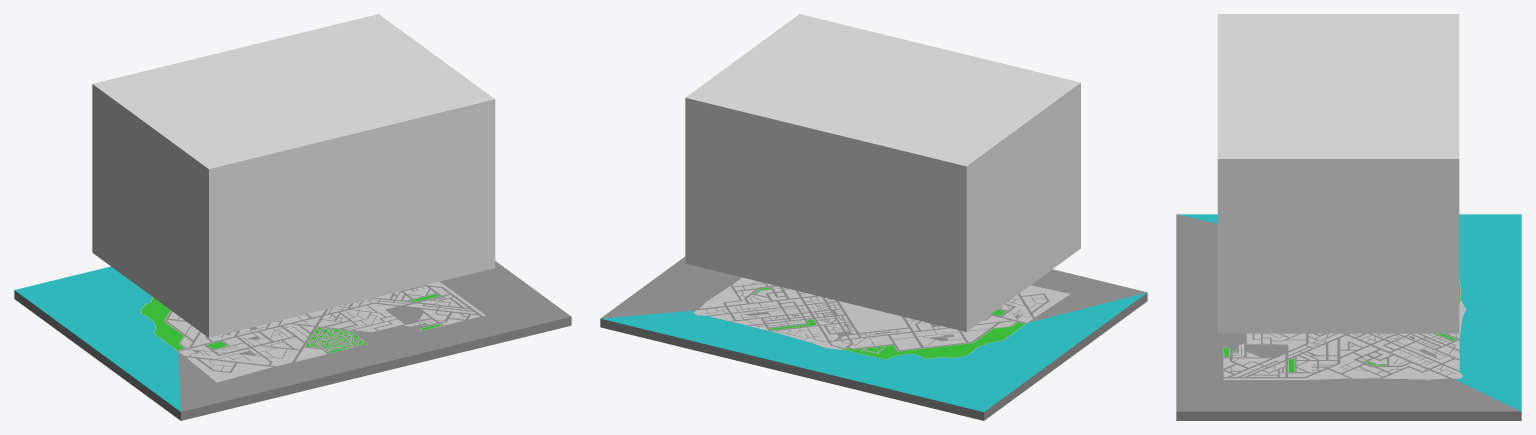
Rendered from map.fbx.
The picture shows the model from 3 angles, left to right: view 1: azimuth 30°, elevation 25°; view 2: azimuth 150°, elevation 25°; view 3: azimuth 270°, elevation 25°; orthographic projection. The views are drawn at different scales.
Visible parts, largest first — view 1: pointer, map; view 2: pointer, map; view 3: pointer, map.
Part boxes in pixels (<box>): pointer: <box>92,14,495,337</box>; map: <box>14,261,571,420</box>; pointer: <box>685,14,1080,331</box>; map: <box>600,256,1147,420</box>; pointer: <box>1217,14,1459,333</box>; map: <box>1176,214,1521,420</box>.
Bounding box in the file's own units: 1043 × 575 × 770.
